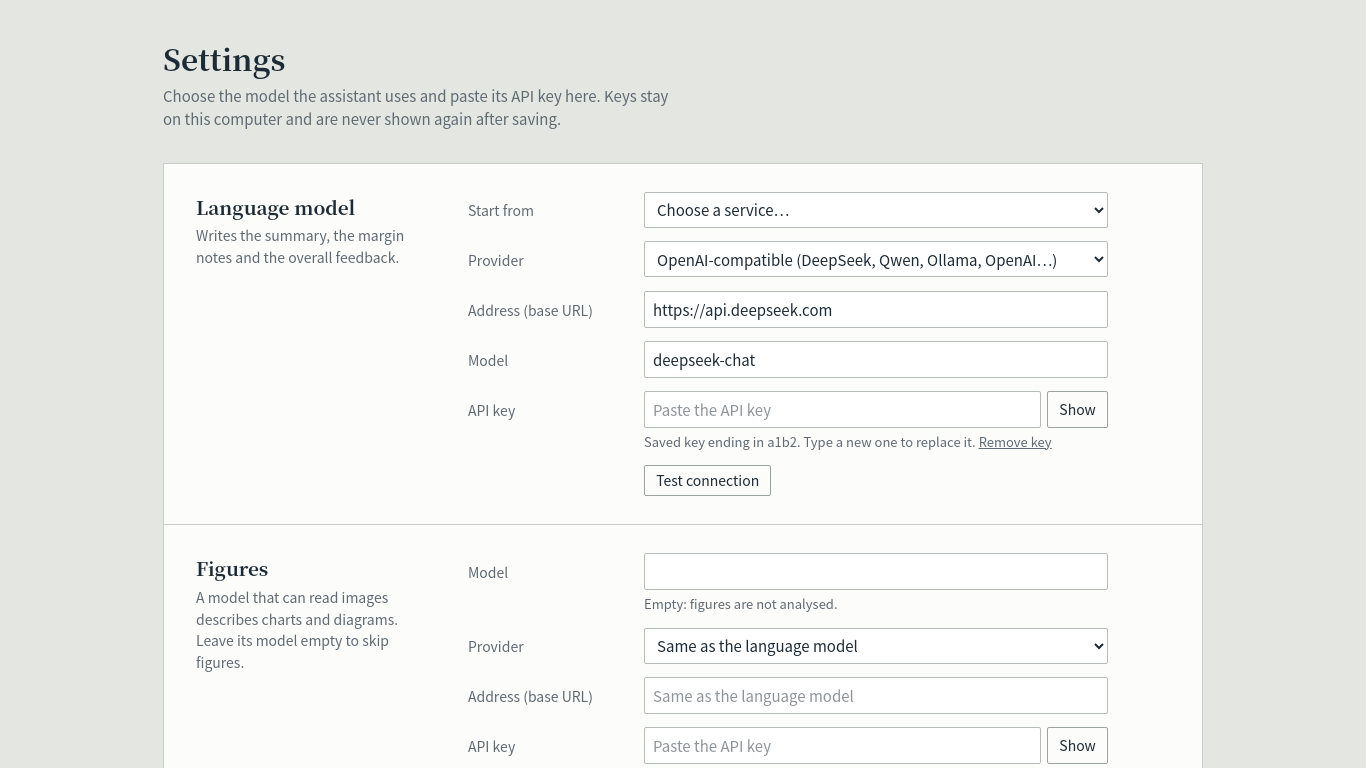
Test: saving without typing a key keeps the saved key
Step 1. Replace the text in the field showing "deepseek-chat" below "Start from" with "deepseek-reasoner" → (876, 359), box [644,341,1108,378]
(page scrolled)
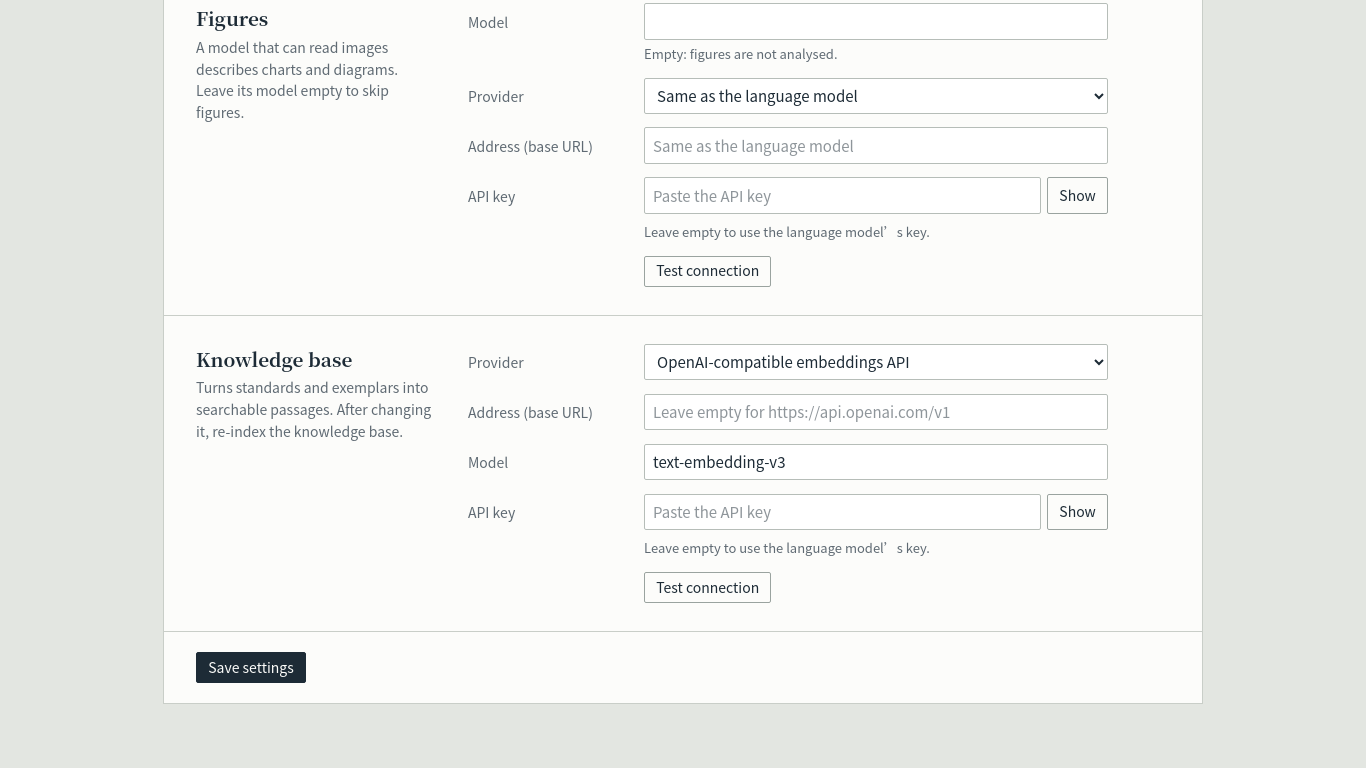
Step 2. Click the button "Save settings" → (251, 668), box [196,652,306,683]
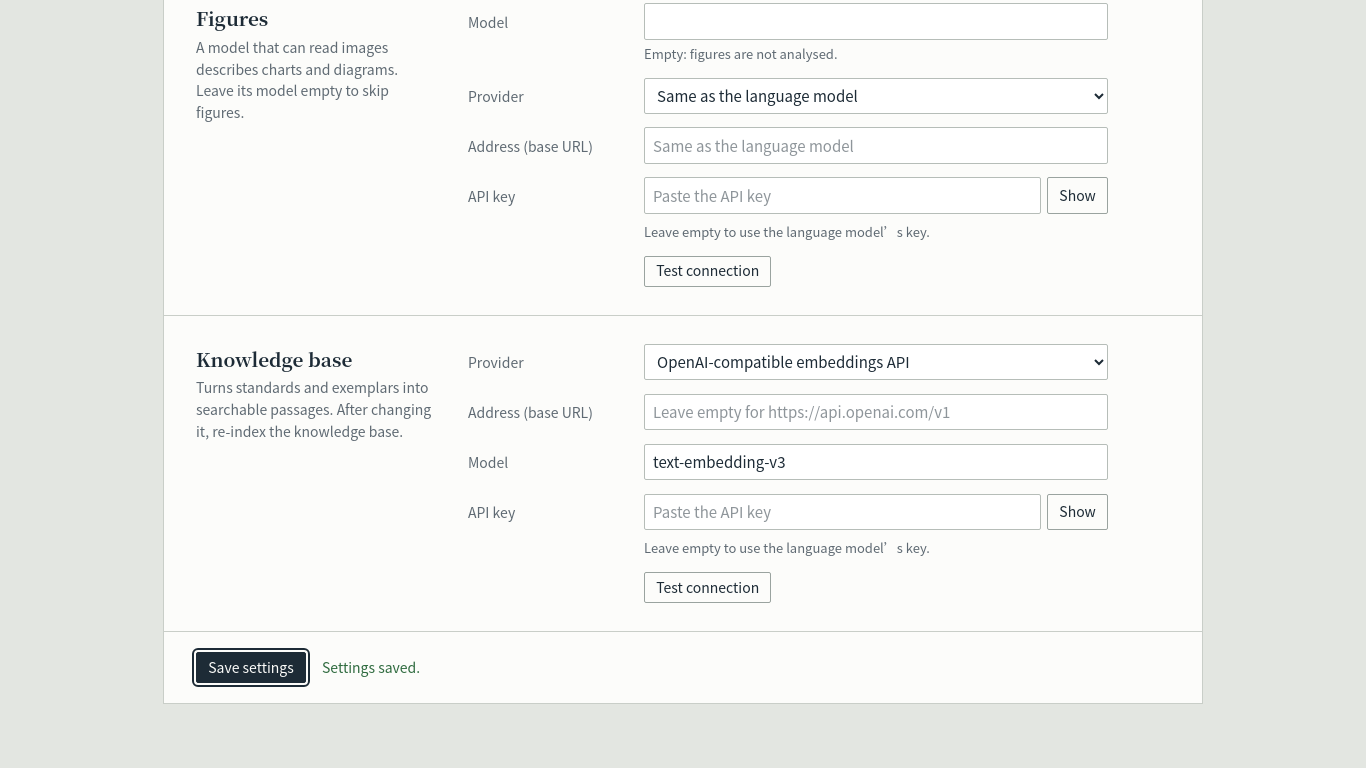
Expected: the text "Settings saved." is shown, [322,657,420,678]
